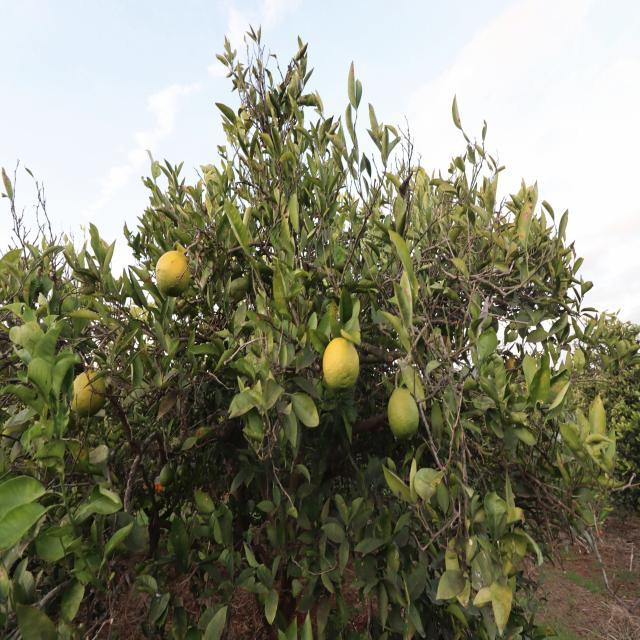Jeruk Belum Matang: (322, 337, 360, 390), (388, 387, 421, 442), (156, 250, 192, 296), (70, 370, 106, 416), (160, 463, 173, 485)
